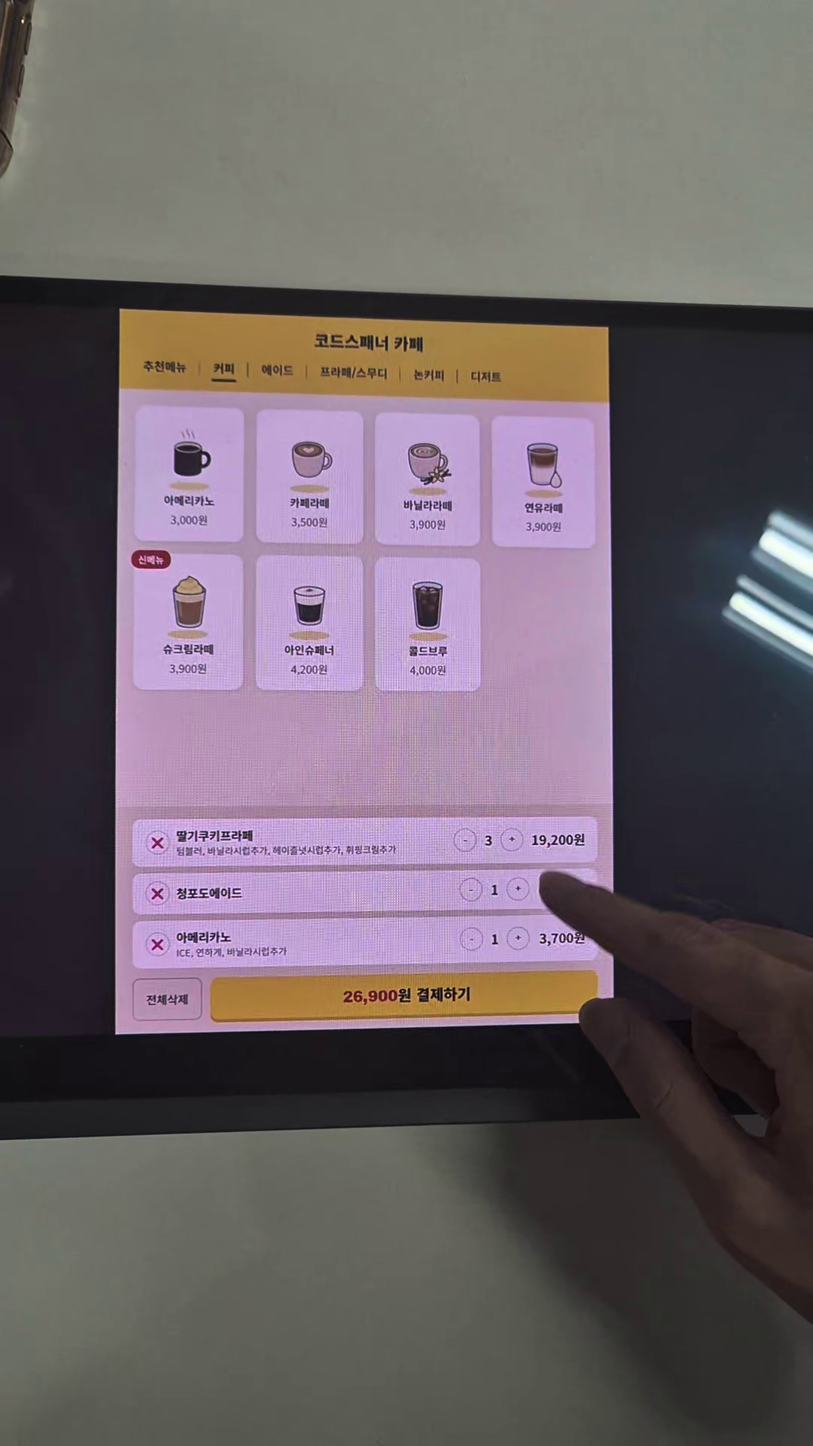action_button: (210, 970, 598, 1022), (133, 979, 203, 1021)
cart_item: (133, 914, 603, 970), (132, 816, 598, 868), (132, 867, 599, 915)
category_tab: (318, 363, 391, 382), (141, 358, 190, 377), (468, 368, 505, 387), (260, 361, 295, 379), (411, 367, 448, 384), (211, 360, 237, 377)
menu_back: (131, 550, 244, 690), (134, 406, 245, 541), (256, 407, 365, 544), (255, 554, 364, 691), (374, 412, 481, 547), (375, 556, 482, 691), (491, 416, 596, 549)
menu_name: (162, 493, 216, 509), (402, 498, 456, 513), (162, 642, 215, 657), (284, 643, 336, 657), (407, 644, 449, 659), (288, 496, 332, 510), (523, 501, 564, 515)
menu_price: (408, 663, 448, 678), (167, 662, 209, 676), (408, 518, 447, 532), (524, 520, 563, 534), (289, 516, 329, 529), (290, 663, 330, 676), (169, 514, 208, 527)
